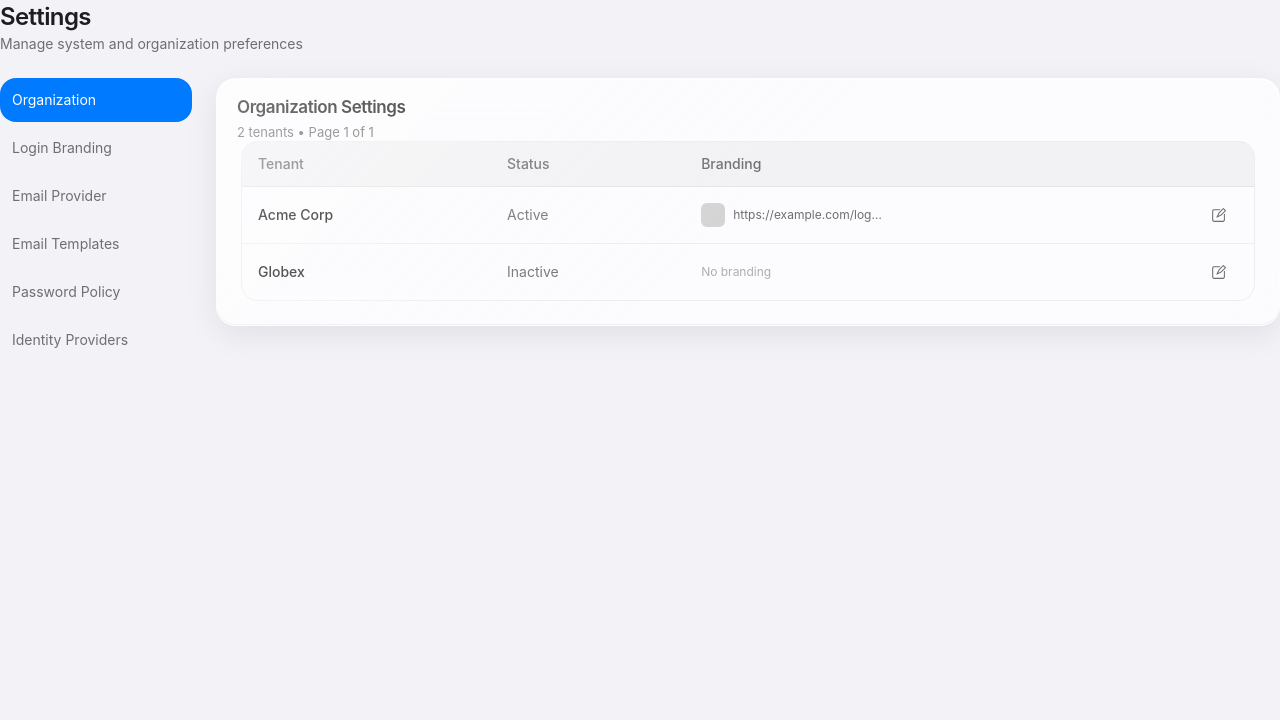
Scenario: Settings Page › shows edit dialog when edit button clicked
Expected: the text "Acme Corp" is shown, [242,187,491,244]
Click the button without text in the row of "Acme Corp".
click(1218, 216)  # box [1198,200,1238,232]
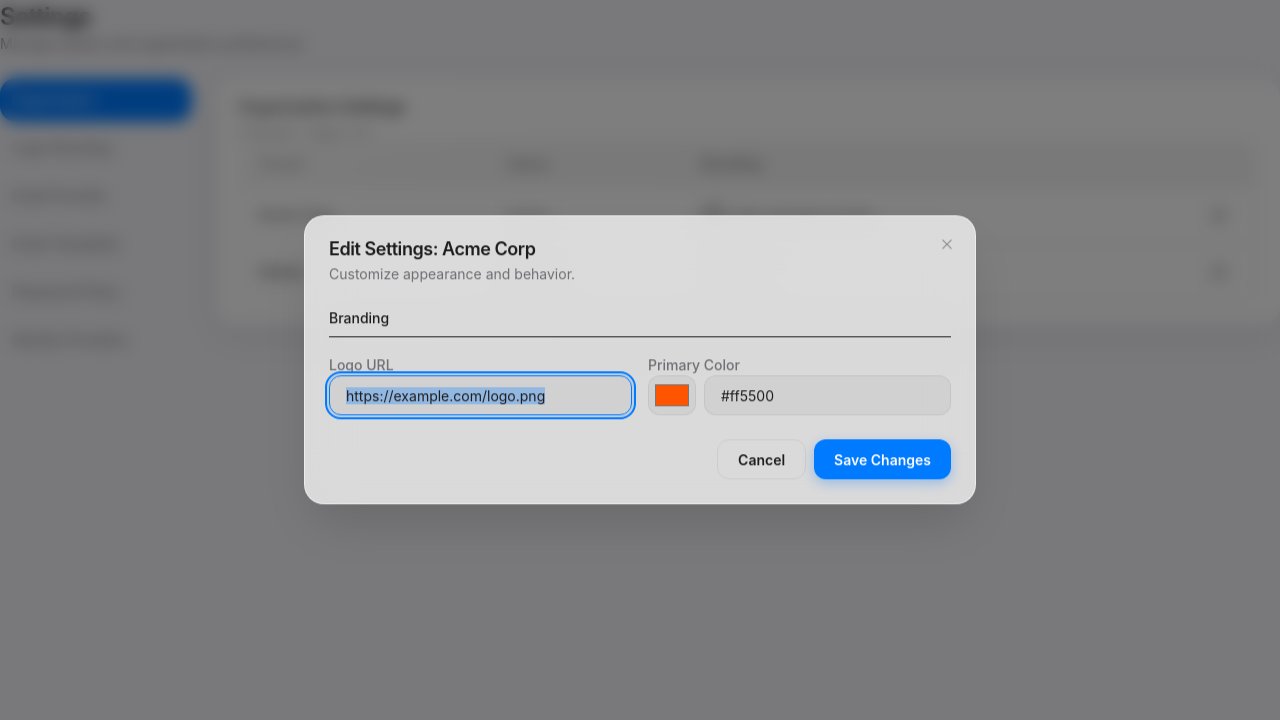
Expected: the dialog is shown, [304,215,976,505]
Expected: the heading "Edit Settings: Acme Corp" is shown, [329,238,536,259]
